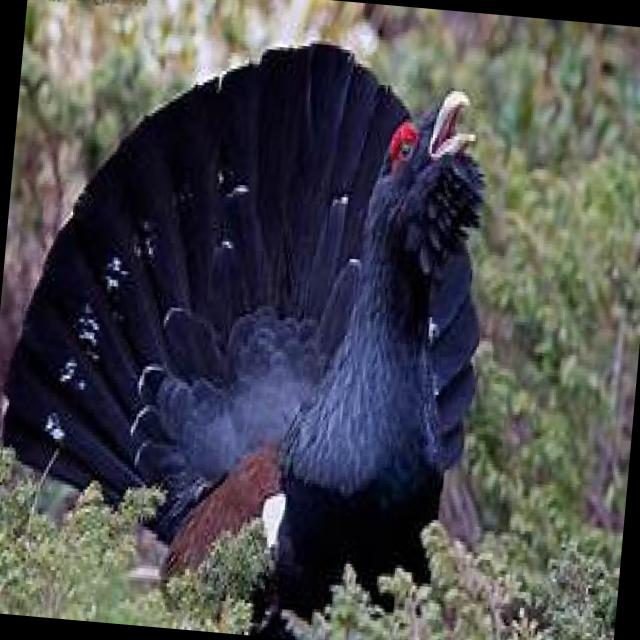chicken: (0, 12, 516, 640)
